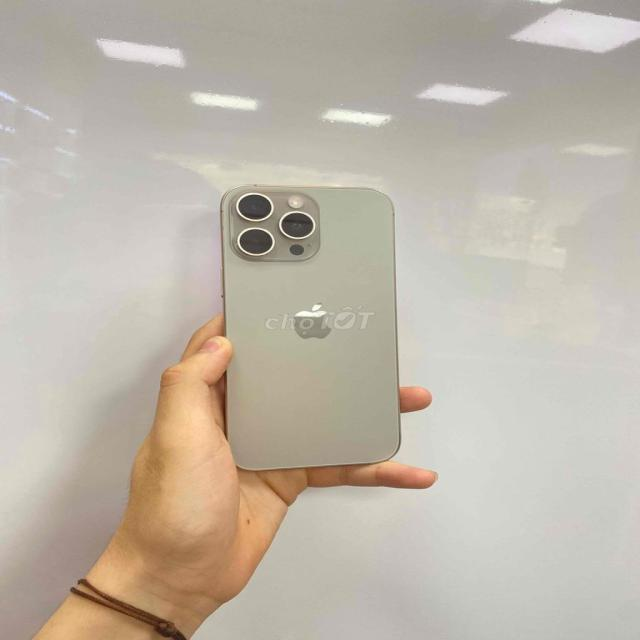gen_16: (221, 184, 400, 471)
